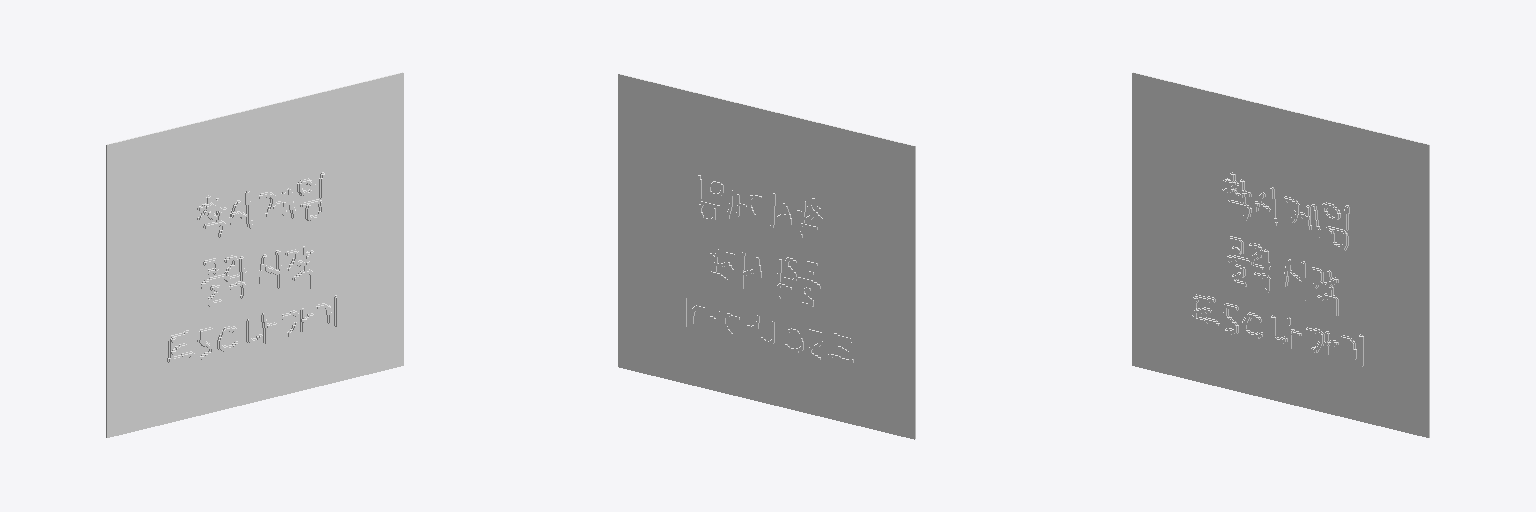
Rendered from Intro.obj.
3 renders of one model, left to right at view 1: azimuth 30°, elevation 25°; view 2: azimuth 150°, elevation 25°; view 3: azimuth 330°, elevation 25°, orthographic.
Parts seen in each view (by area): view 1: object 1; view 2: object 1; view 3: object 1.
Part boxes in pixels (bbox=[...]): object 1: bbox=[106, 72, 403, 437]; object 1: bbox=[618, 74, 915, 439]; object 1: bbox=[1132, 72, 1429, 437].
Bounding box in the file's own units: 25.6 × 24.2 × 0.6.